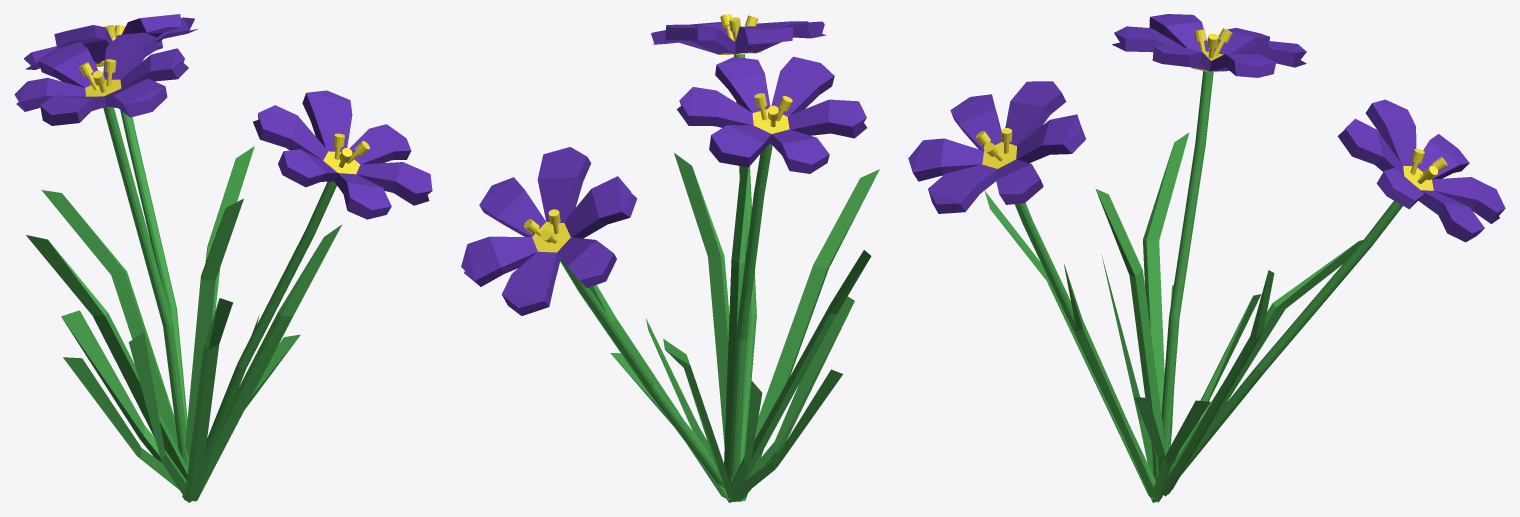
File: daisy.glb
3 renders of one model, left to right at view 1: azimuth 30°, elevation 25°; view 2: azimuth 150°, elevation 25°; view 3: azimuth 270°, elevation 25°, orthographic. The views are drawn at different scales.
Visible parts, largest first — view 1: group1570621783, group1001520448, group287926631, group904756982, group565723572, group690264530, group2009641497, group997633305, group1946222413, group30746747, group1385647550, group1236532255; view 2: group1001520448, group1570621783, group287926631, group565723572, group904756982, group30746747, group1946222413, group997633305, group2009641497, group1385647550, group1236532255, group690264530 (+1 smaller); view 3: group1570621783, group1001520448, group287926631, group904756982, group565723572, group30746747, group997633305, group1946222413, group2009641497, group1385647550, group1236532255.
Part boxes in pixels (box(x1,y1,x2,y2)): group1570621783: box(128, 90, 432, 502); group1001520448: box(23, 14, 300, 462); group287926631: box(103, 106, 189, 467); group904756982: box(26, 235, 188, 480); group565723572: box(185, 198, 243, 459); group690264530: box(63, 357, 179, 489); group2009641497: box(38, 42, 97, 87); group997633305: box(103, 32, 158, 79); group1946222413: box(104, 78, 167, 117); group30746747: box(40, 95, 106, 125); group1385647550: box(120, 48, 188, 88); group1236532255: box(14, 78, 85, 111); group1001520448: box(461, 147, 762, 502); group1570621783: box(610, 14, 879, 502); group287926631: box(729, 143, 772, 479); group565723572: box(724, 166, 747, 483); group904756982: box(734, 250, 871, 500); group30746747: box(787, 99, 867, 138); group1946222413: box(771, 56, 834, 116); group997633305: box(677, 87, 753, 127); group2009641497: box(709, 125, 771, 167); group1385647550: box(715, 57, 770, 112); group1236532255: box(770, 129, 829, 173); group690264530: box(734, 369, 842, 501); group1570621783: box(908, 81, 1210, 502); group1001520448: box(1134, 99, 1505, 496); group287926631: box(1161, 71, 1213, 455); group904756982: box(1143, 132, 1189, 481); group565723572: box(1095, 188, 1164, 492); group30746747: box(1149, 14, 1209, 51); group997633305: box(1210, 54, 1276, 77); group1946222413: box(1112, 26, 1184, 52); group2009641497: box(1233, 41, 1306, 67); group1385647550: box(1152, 43, 1210, 71); group1236532255: box(1214, 28, 1269, 54).
Bounding box in the file's own units: 0.3171 × 0.4474 × 0.5422.
